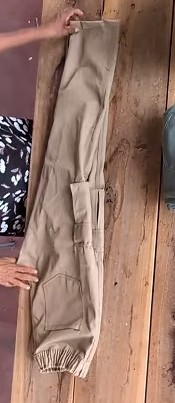TROUSER: (37, 88, 137, 366)
